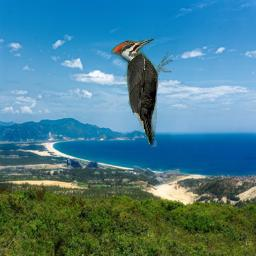Woodpecker: (111, 38, 173, 147)
